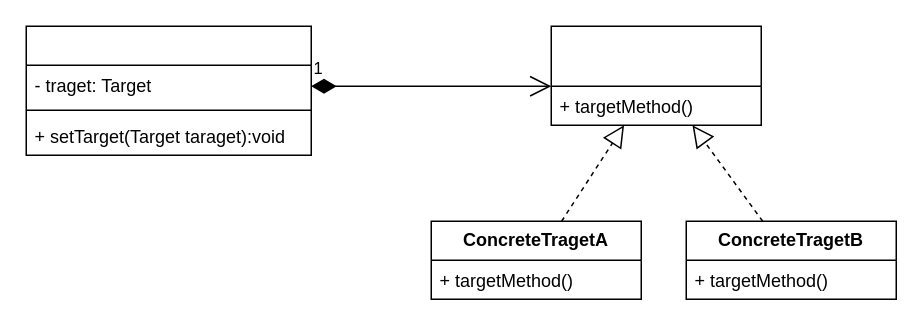
Some shapes in this 923 by 330 pixel diagram are drawn without their labels. The shapes that lost their labels are listed below. From the top down, each one's box as (x1, y1, x2, y2) in pixels, then its label:
(25, 25, 311, 155): Context
(550, 25, 761, 125): << interface>> Target
